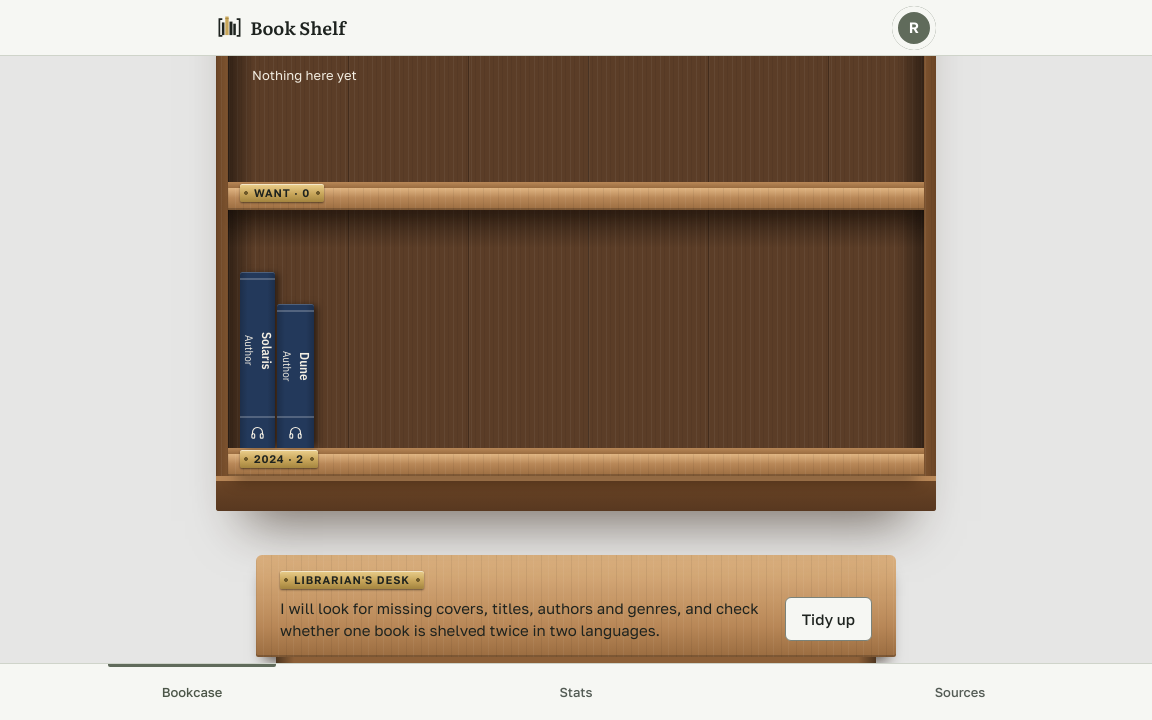
Test: BookcaseScreen opening a book › just shows the open book when motion is reduced
(page scrolled)
Check: the element "2024 · 2" is shown, box x1=228 y1=210 x2=924 y2=476
Click the button "Solaris Author" at coordinates (258, 360), box x1=240 y1=272 x2=275 y2=448
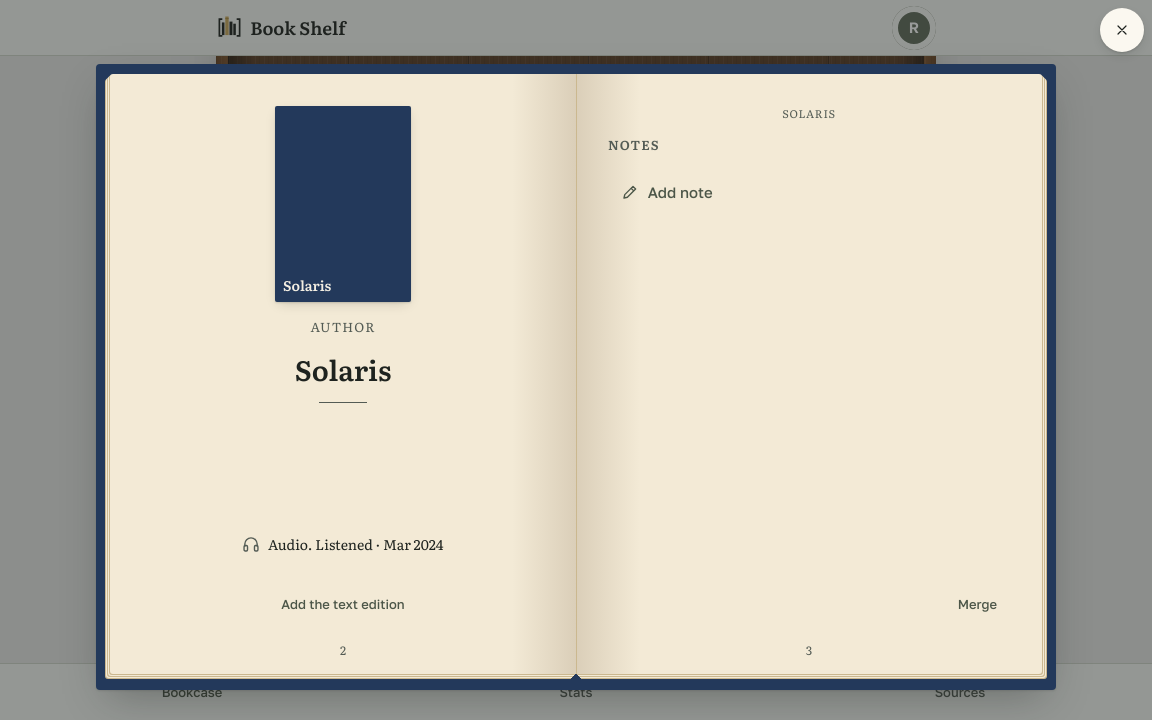
Check: the element with class "bs-book" is shown
